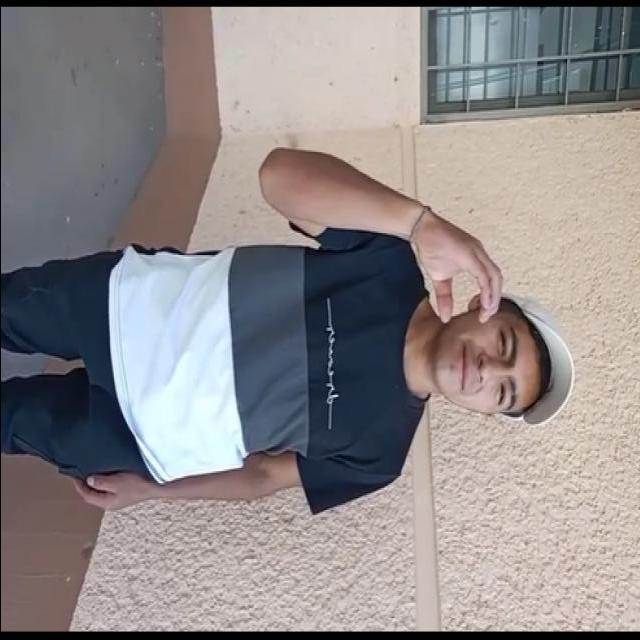C: (395, 203, 516, 353)
